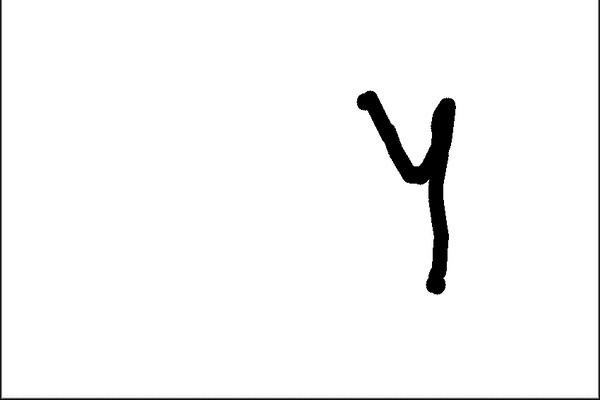Y: (346, 79, 466, 310)
